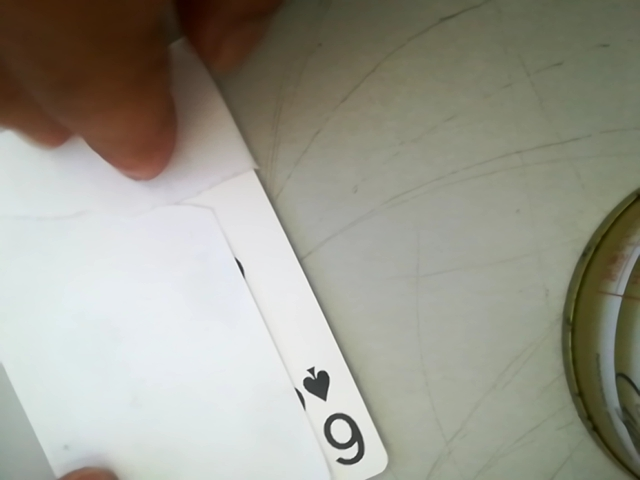ht 6: (290, 357, 367, 478)
